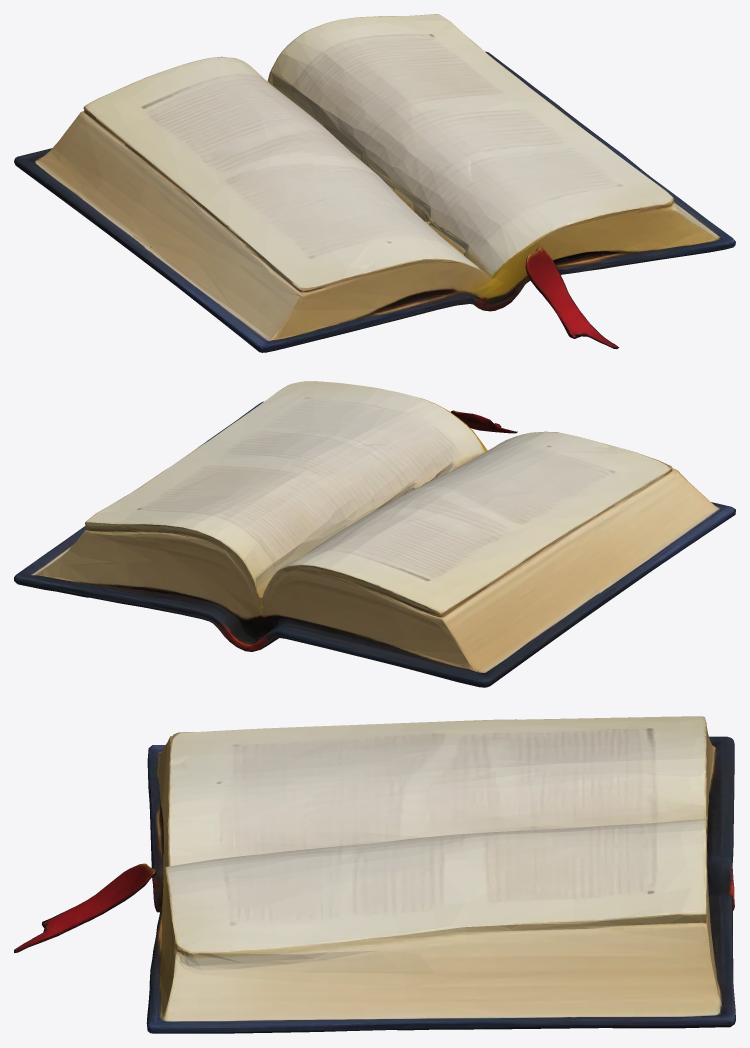
Rendered from giftbox_red_goldbow.glb.
3 renders of one model, top to bottom at view 1: azimuth 30°, elevation 25°; view 2: azimuth 150°, elevation 25°; view 3: azimuth 270°, elevation 25°, orthographic. The views are drawn at different scales.
Visible parts, largest first — view 1: geometry_0; view 2: geometry_0; view 3: geometry_0.
Boxes of the visible parts, x1,y1,x2,y2 form: geometry_0: (14, 14, 735, 352); geometry_0: (14, 381, 735, 687); geometry_0: (14, 716, 735, 1033).
Size of the model in its own units: 0.896 by 0.1963 by 0.9998.
1 material, 1 textured.
